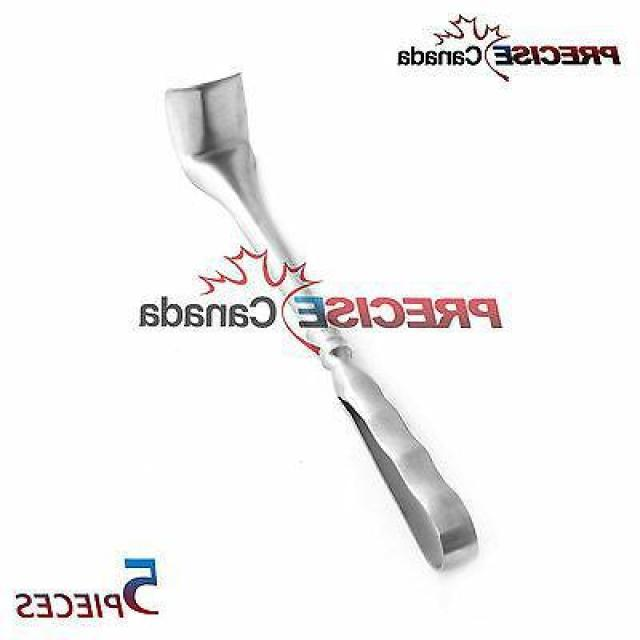Richardson: (160, 71, 482, 574)
